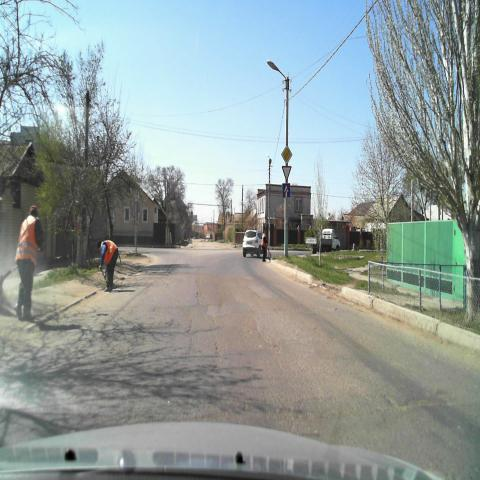2_2: (280, 145, 292, 164)
